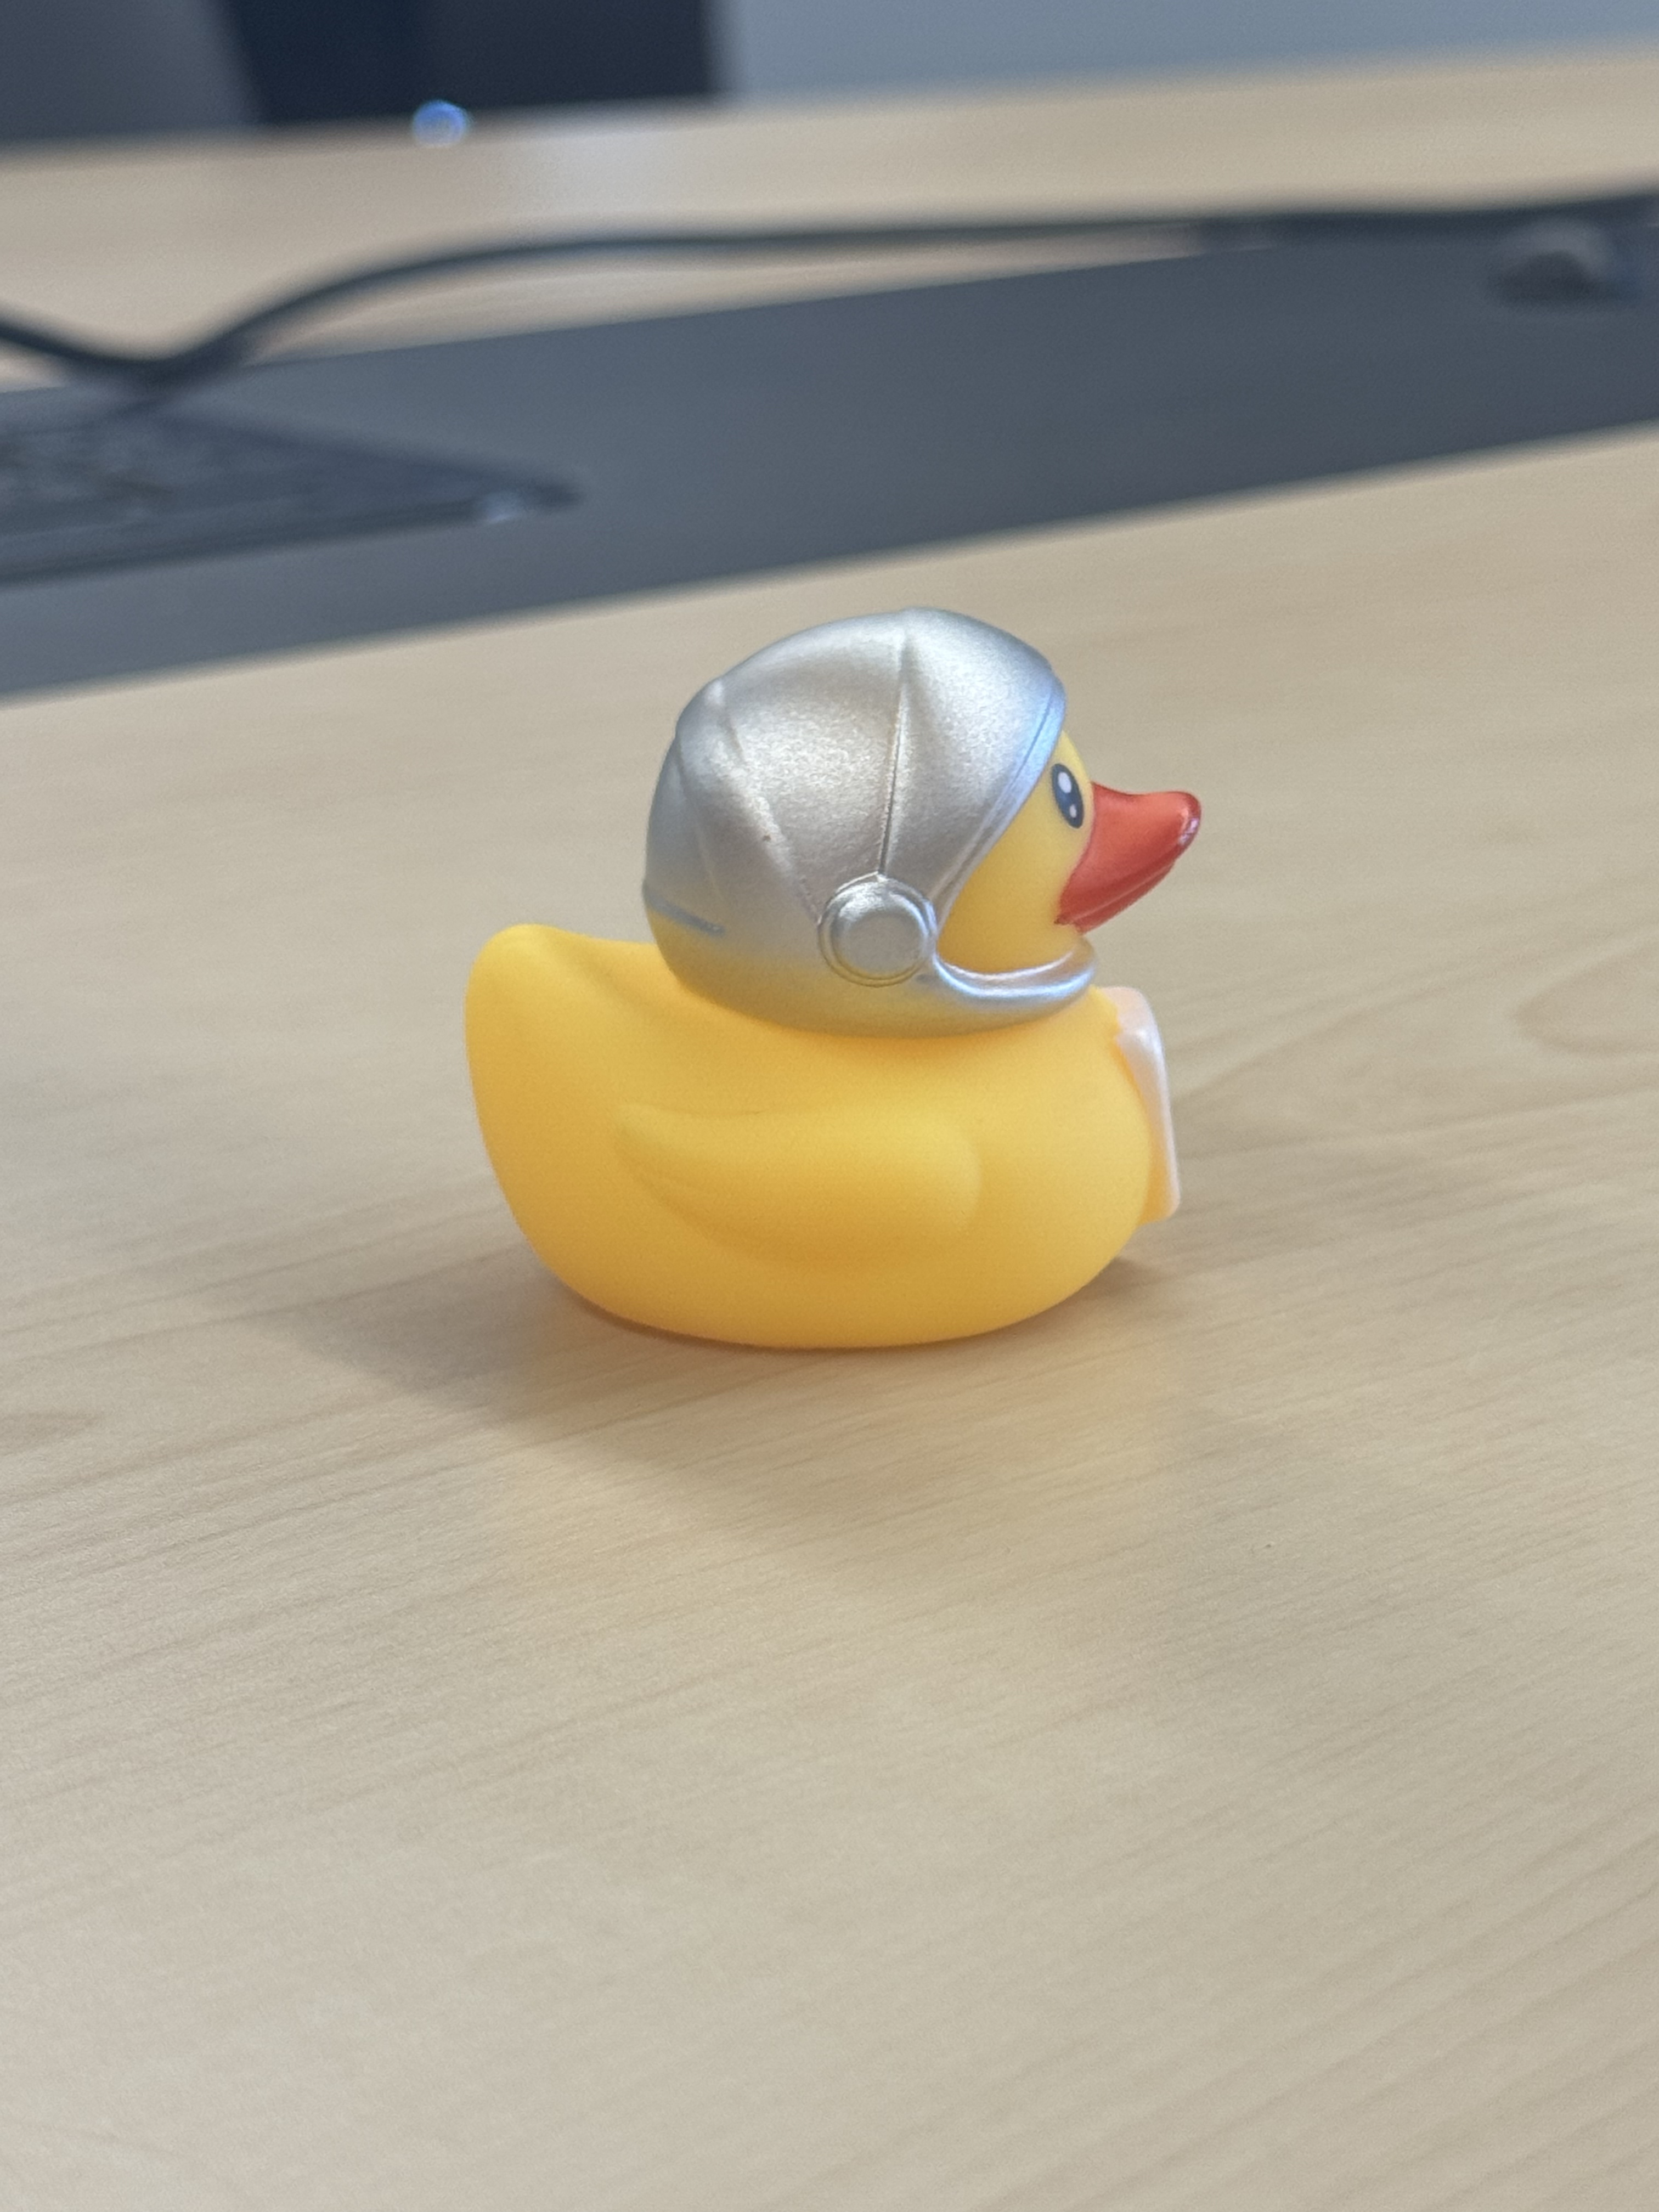duck_specialty: (448, 599, 1216, 1366)
